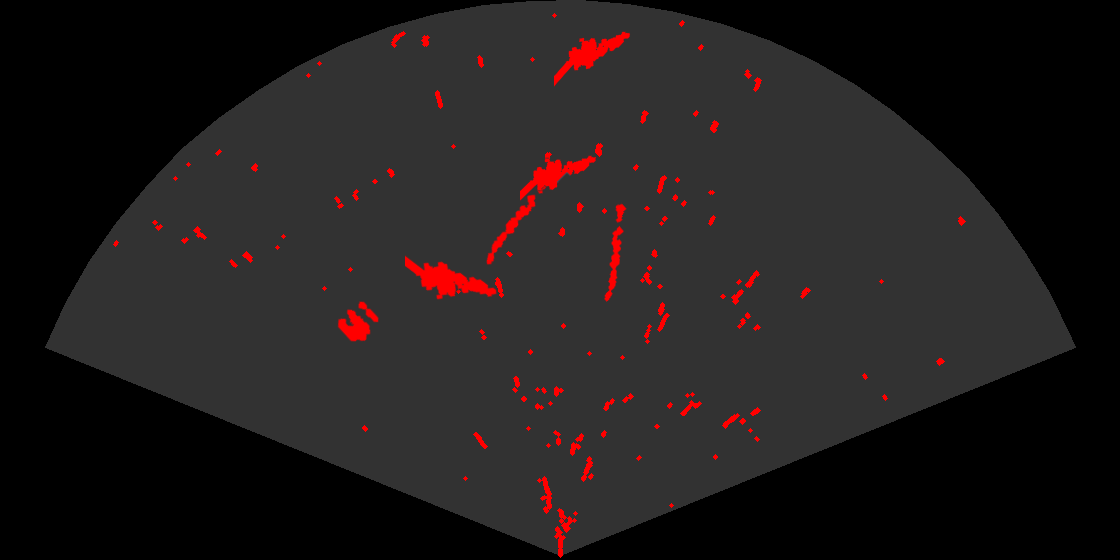ball: (336, 300, 380, 343)
chain: (485, 173, 555, 266), (603, 202, 628, 303)
frogman: (554, 30, 632, 87), (405, 254, 498, 301), (520, 154, 598, 202)
